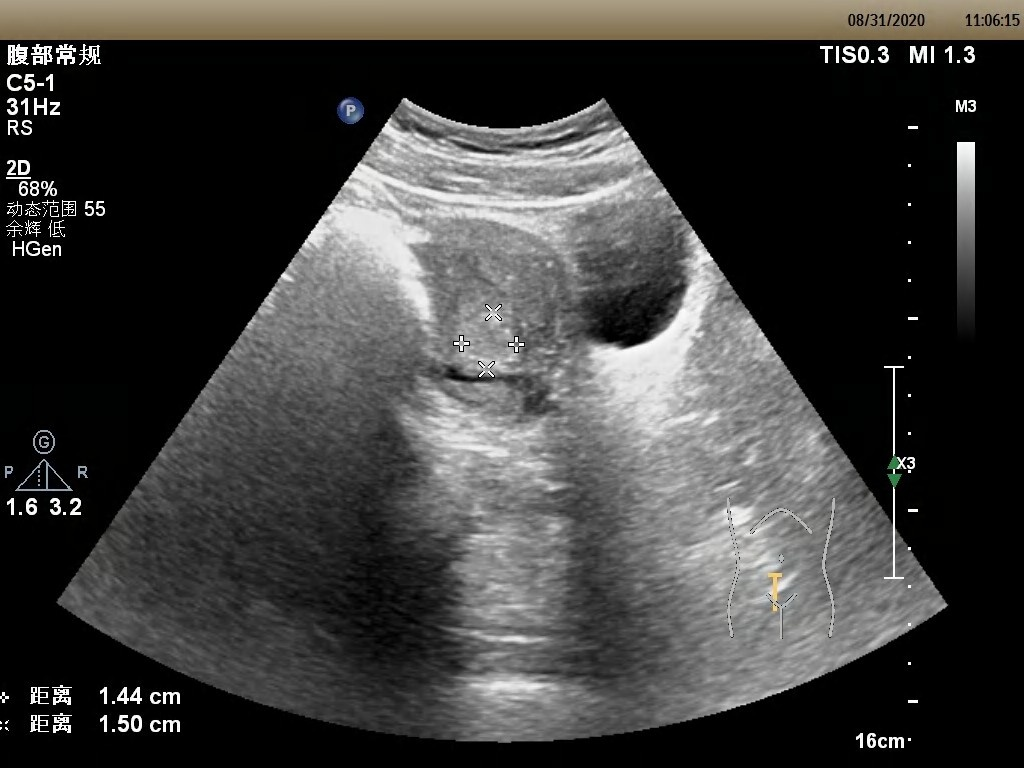肌瘤: (462, 313, 515, 370)
